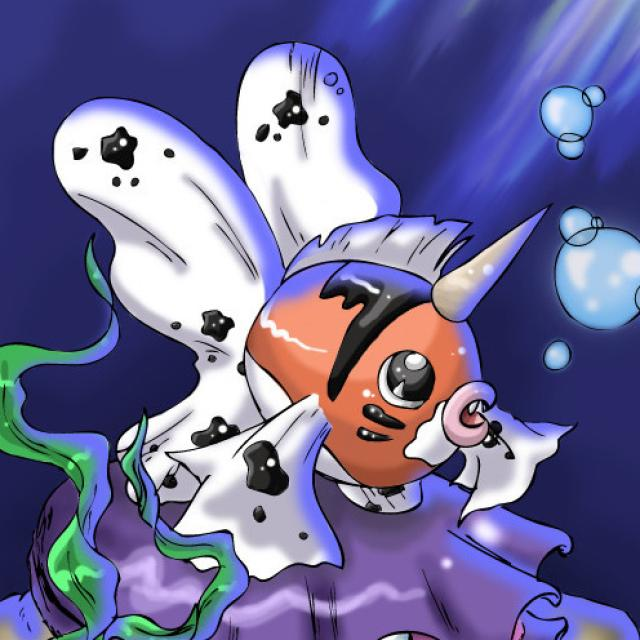Seaking: (146, 201, 574, 558)
